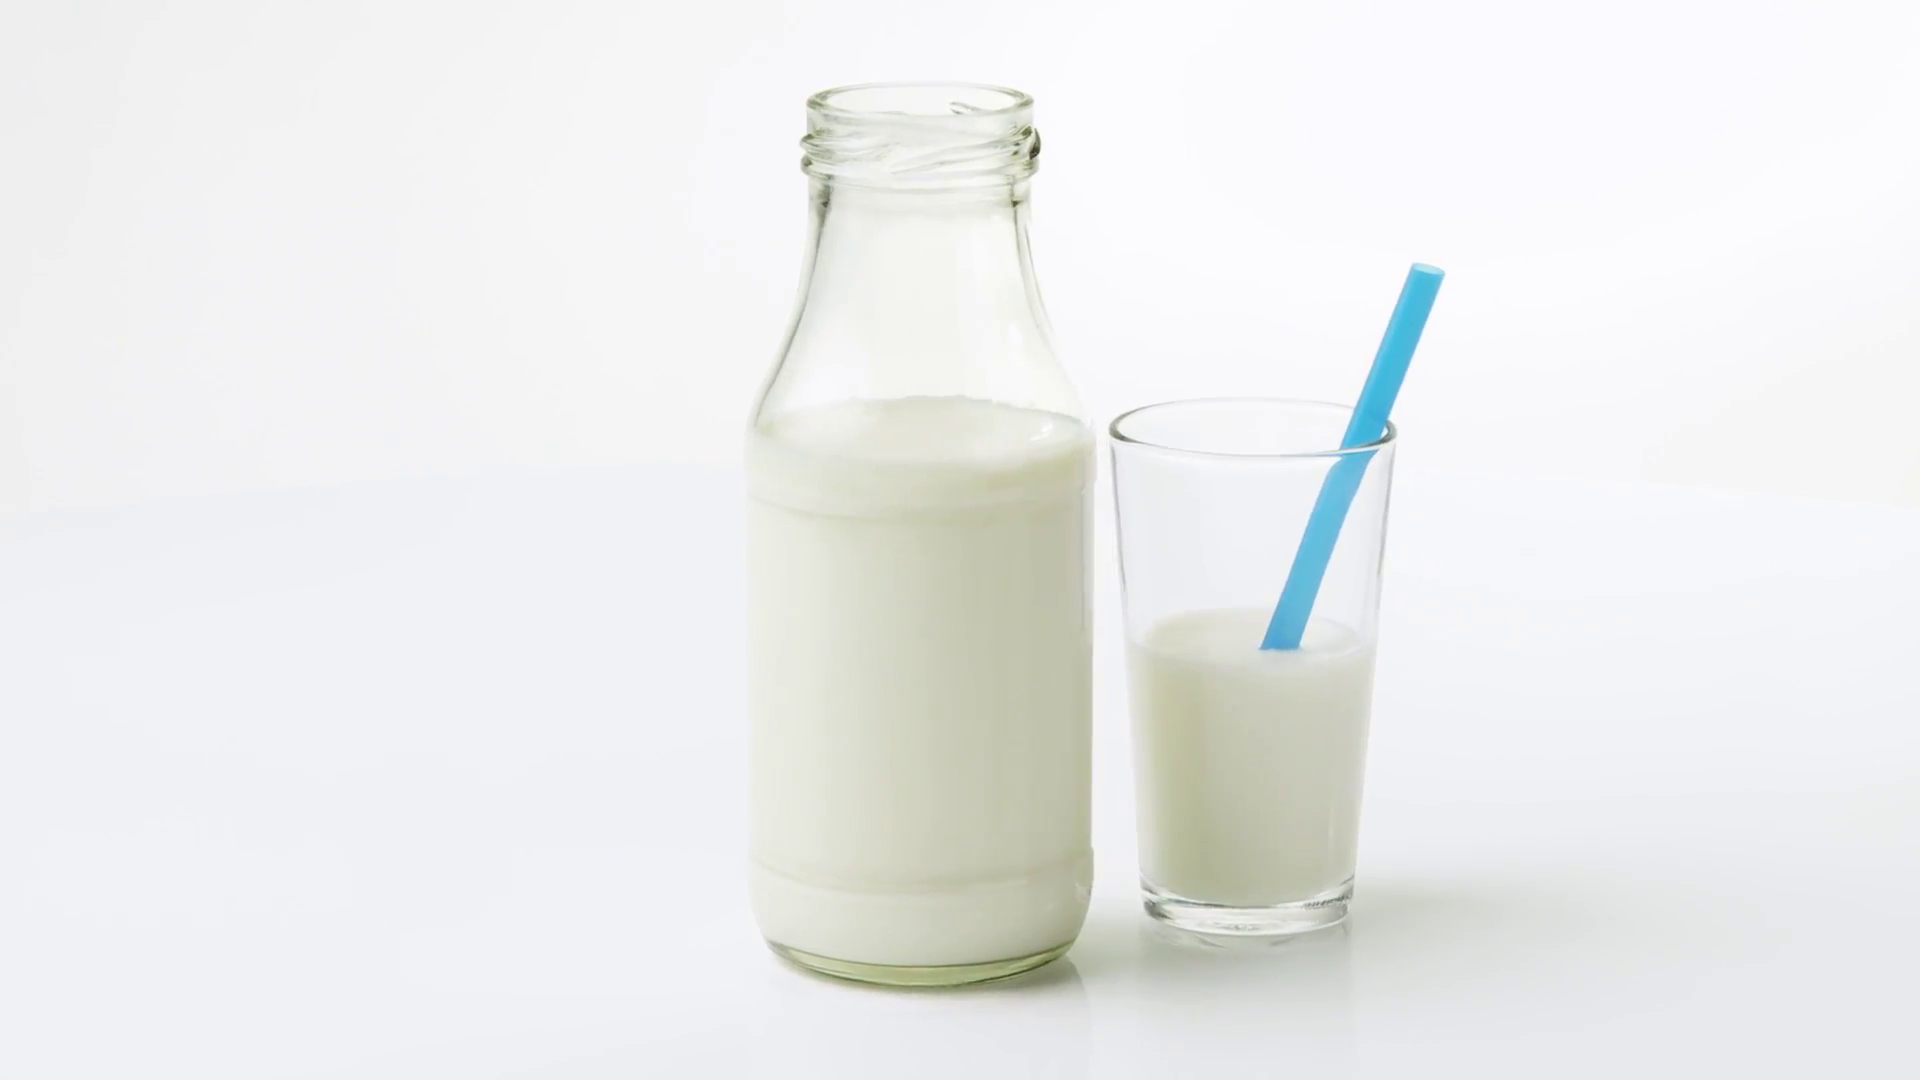glass of milk: (731, 386, 1096, 969), (1109, 394, 1378, 938)
